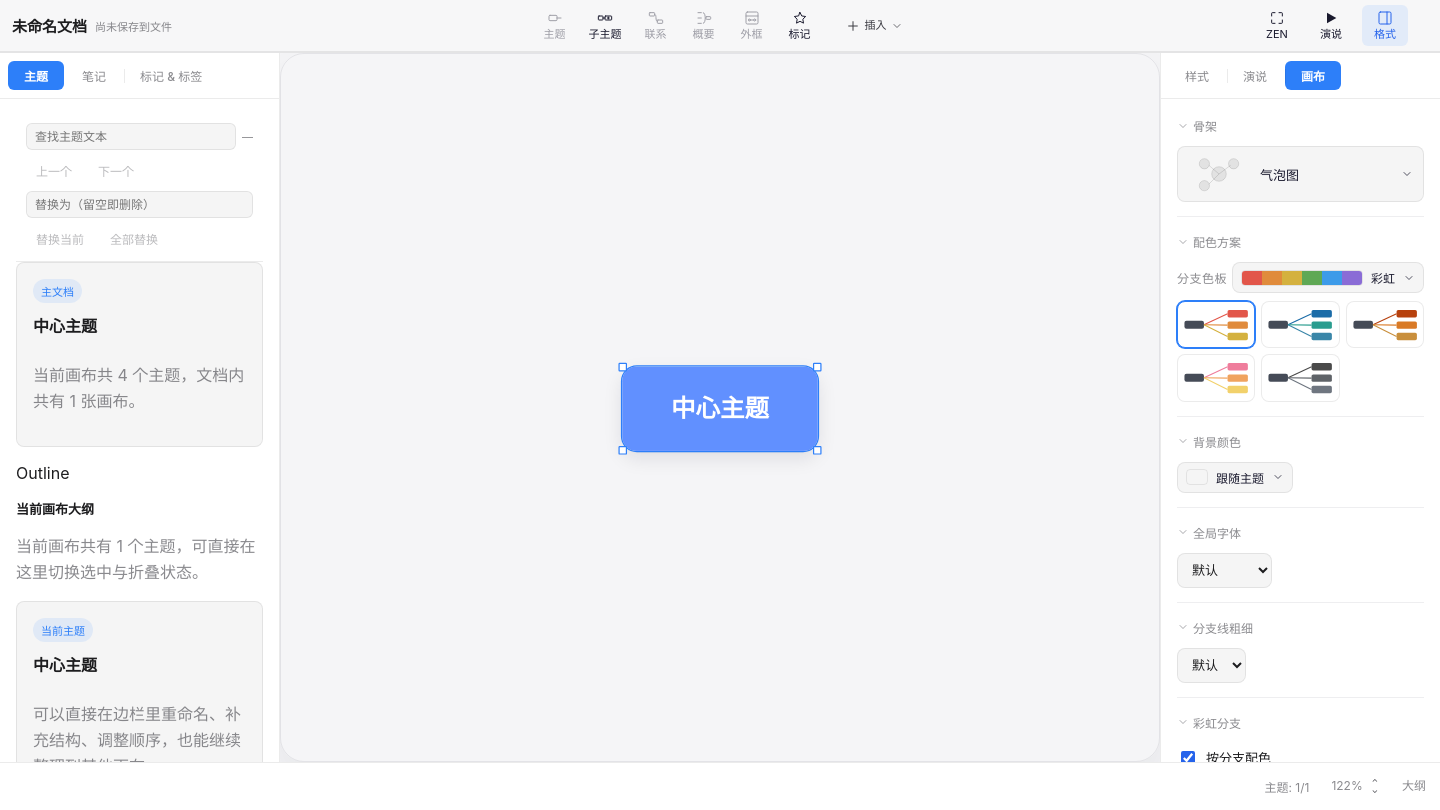
disables the structure direction control for whole-canvas-only skeletons
Click the tab "样式" at (1197, 76), box top-left (1169, 61), bottom-right (1225, 90)
(page scrolled)
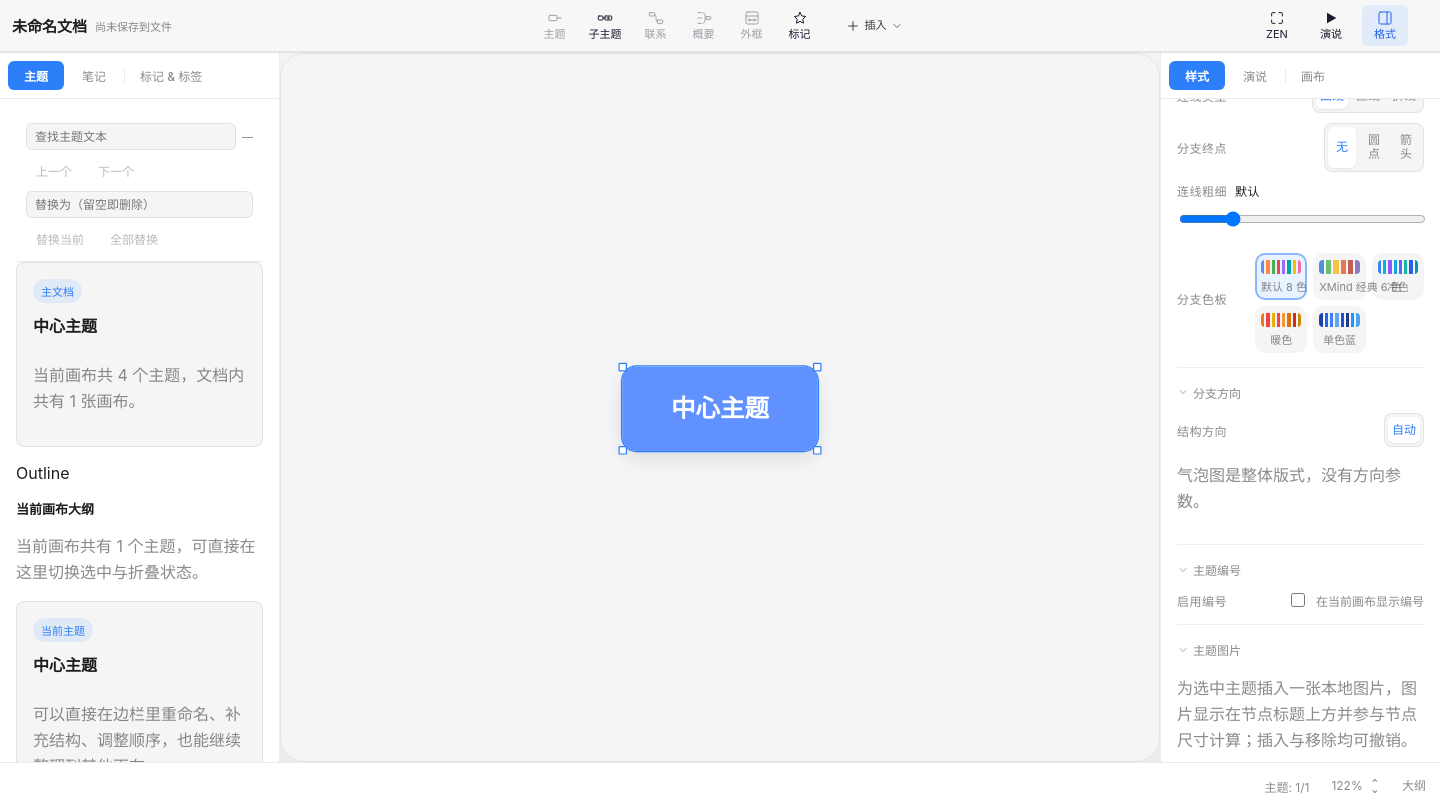
Expected: the button "自动" is disabled, top-left (1388, 417), bottom-right (1420, 443)
